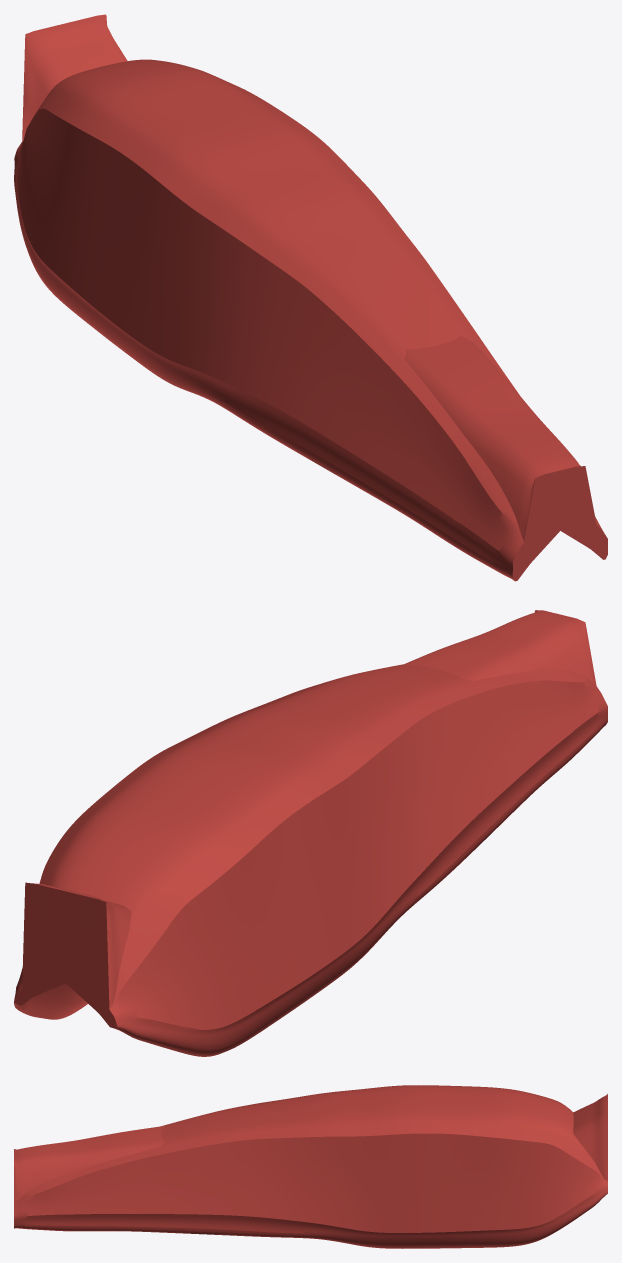
Rendered from bobber_5.glb.
3 renders of one model, top to bottom at view 1: azimuth 30°, elevation 25°; view 2: azimuth 150°, elevation 25°; view 3: azimuth 270°, elevation 25°, orthographic. The views are drawn at different scales.
Visible parts, largest first — view 1: lod0; view 2: lod0; view 3: lod0.
Boxes of the visible parts, box(x1,y1,x2,y2) form: lod0: box(14, 14, 607, 581); lod0: box(14, 610, 607, 1056); lod0: box(14, 1085, 607, 1248).
Size of what is drawn, in the model's own units: 0.258 by 0.2446 by 1.06.
